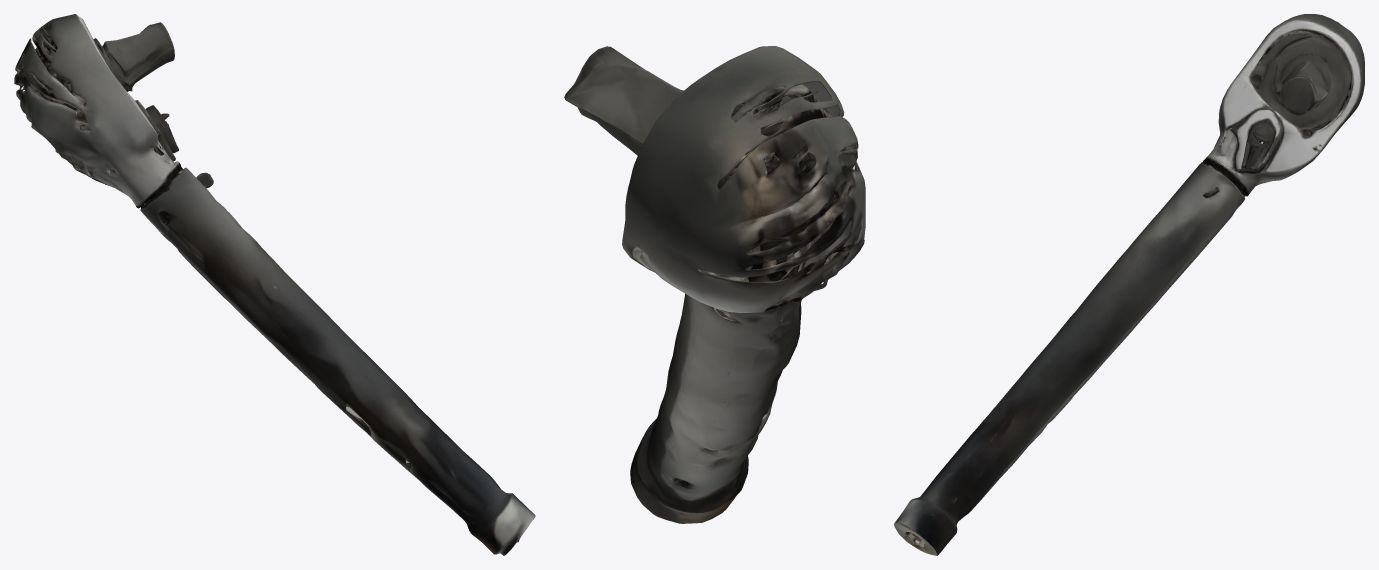
Rendered from original.glb.
3 renders of one model, left to right at view 1: azimuth 30°, elevation 25°; view 2: azimuth 150°, elevation 25°; view 3: azimuth 270°, elevation 25°, orthographic. The views are drawn at different scales.
Visible parts, largest first — view 1: world; view 2: world; view 3: world.
Boxes of the visible parts, left/top/right/bottom form: world: left=14, top=14, right=535, bottom=555; world: left=564, top=46, right=865, bottom=523; world: left=894, top=14, right=1364, bottom=555.
Size of the model in its own units: 0.7343 by 0.9997 by 1.
1 material, 1 textured.
